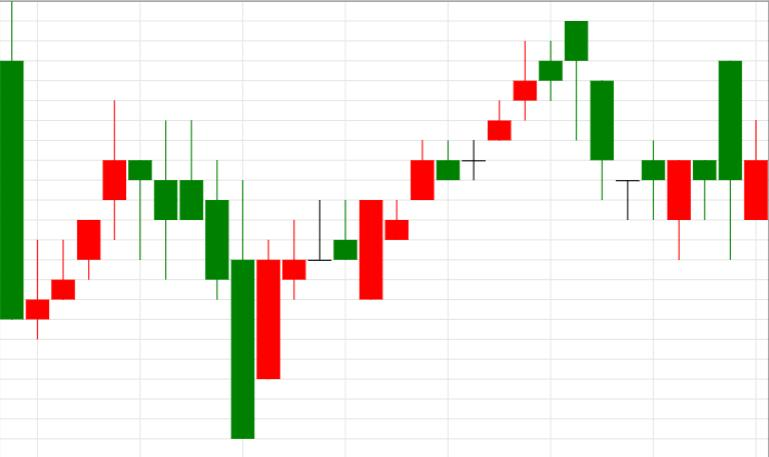hanging_man_fall: (360, 20, 588, 300)
